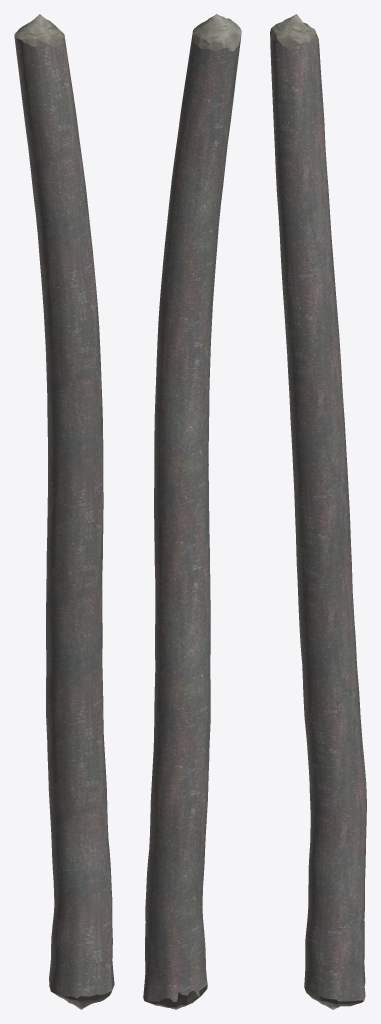
3 views of the same model, side by side, from view 1: azimuth 30°, elevation 25°; view 2: azimuth 210°, elevation 25°; view 3: azimuth 330°, elevation 25° (orthographic).
Visible parts, largest first — view 1: SM_GF_Ash_Tree_01_full_LOD0; view 2: SM_GF_Ash_Tree_01_full_LOD0; view 3: SM_GF_Ash_Tree_01_full_LOD0.
Part boxes in pixels (x1,y1,x2,y2): SM_GF_Ash_Tree_01_full_LOD0: (14, 14, 114, 1009); SM_GF_Ash_Tree_01_full_LOD0: (143, 14, 241, 1009); SM_GF_Ash_Tree_01_full_LOD0: (270, 14, 366, 1009).
Size of the model in its own units: 0.8889 by 9.08 by 0.6312.
Materials: 1 (1 with a texture image).
